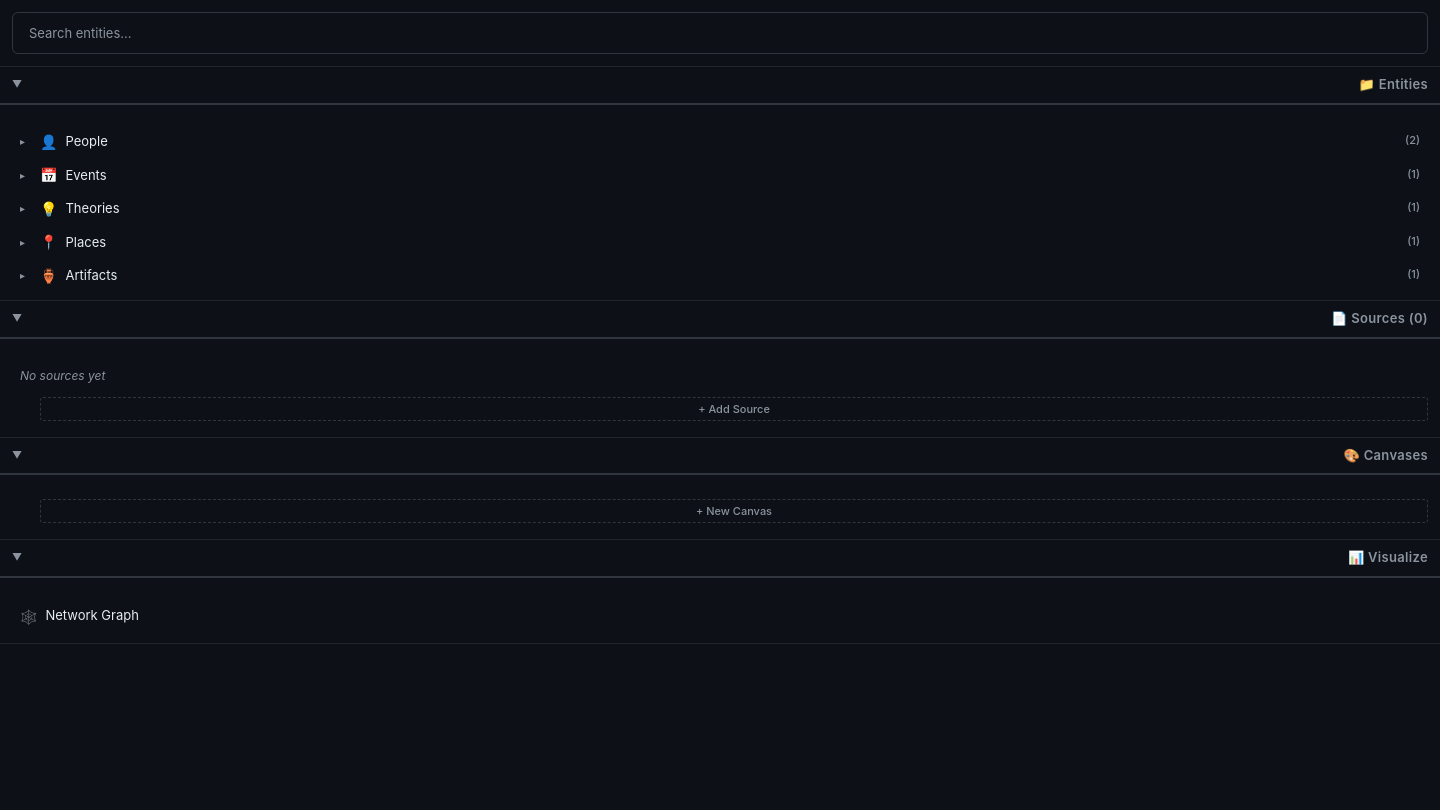
Test: EntityExplorer › Search Edge Cases › handles search with no results
This screenshot has width=1440, height=810.
Type "XYZ123" into the field with placeholder "Search entities..." at (720, 33), box [12,12,1428,54]
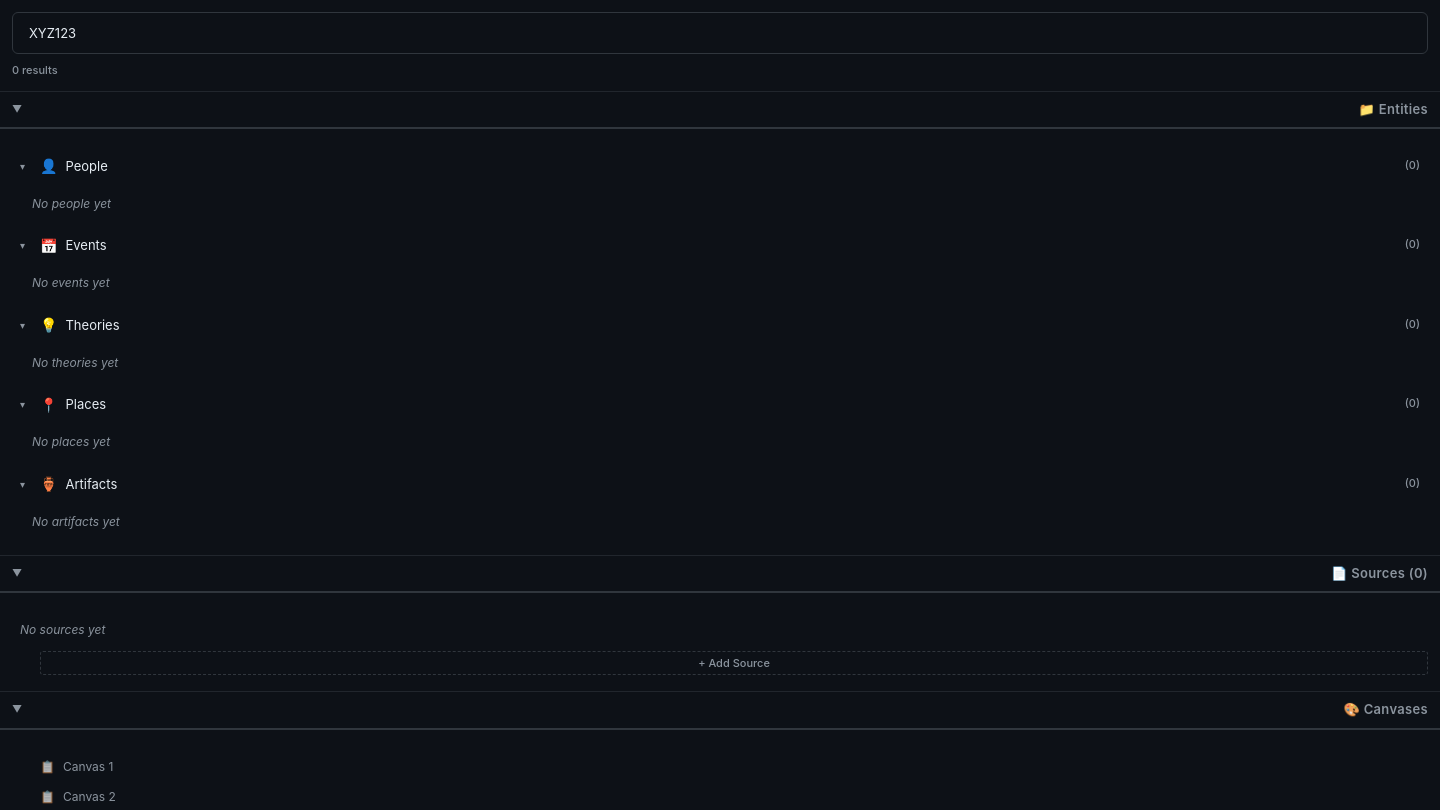
Now the text "0 results" is shown, box [12,63,58,77]
